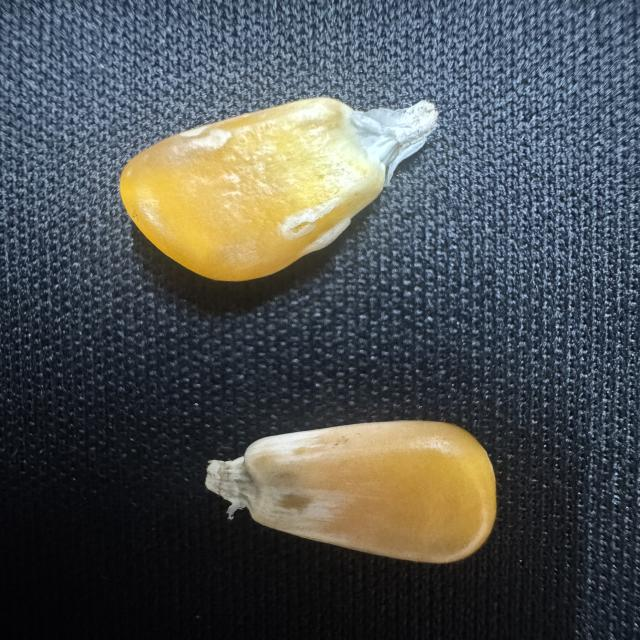Good-Seed: (108, 86, 445, 294), (186, 416, 516, 569)
